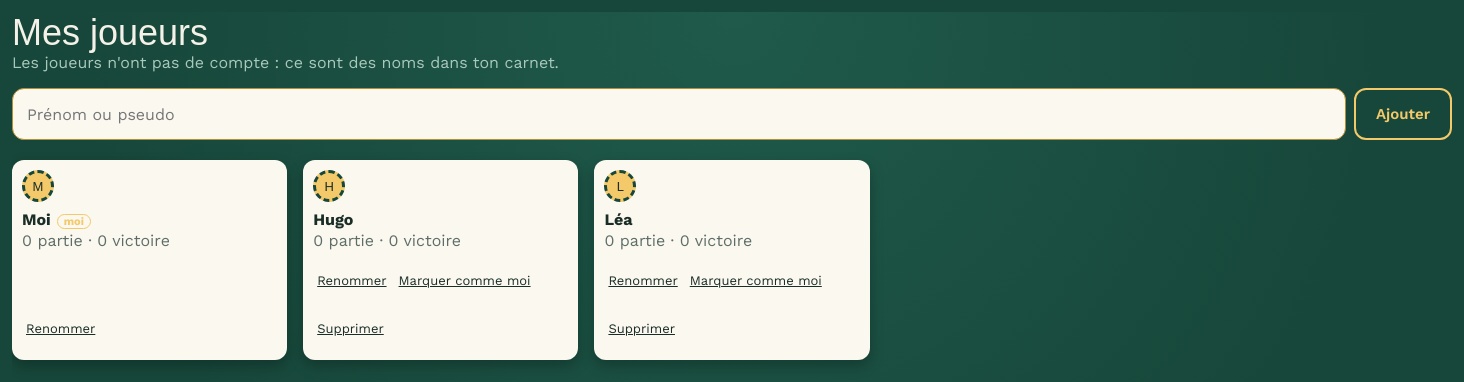
Test: Joueurs › renomme un joueur
The image size is (1464, 382).
Click the button "Renommer" below "Hugo". click: coordinates (352, 280)
box: [313, 258, 391, 302]
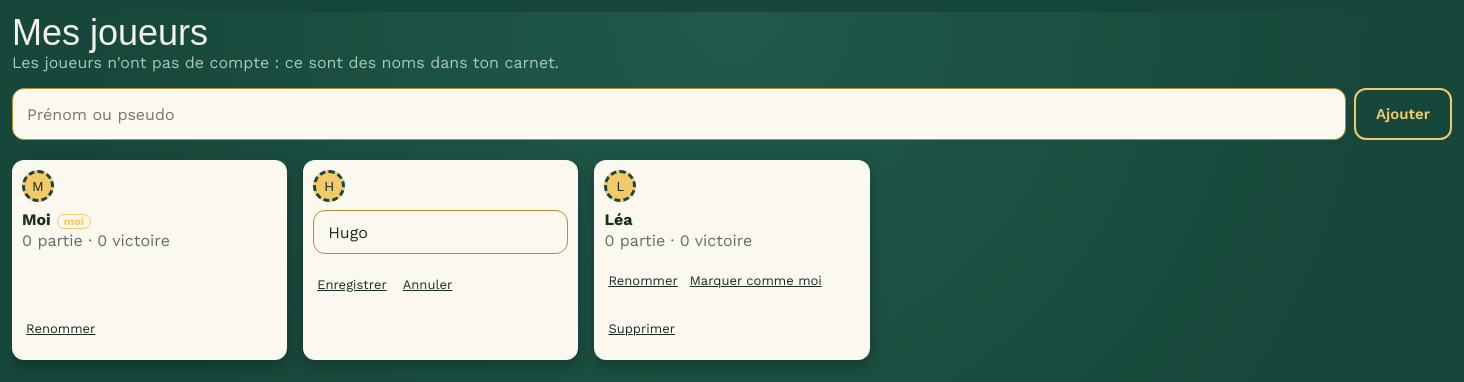
Replace the text in the field named "Nouveau nom du joueur" with "Hugo B.". click: coordinates (441, 232)
box: [313, 210, 568, 254]
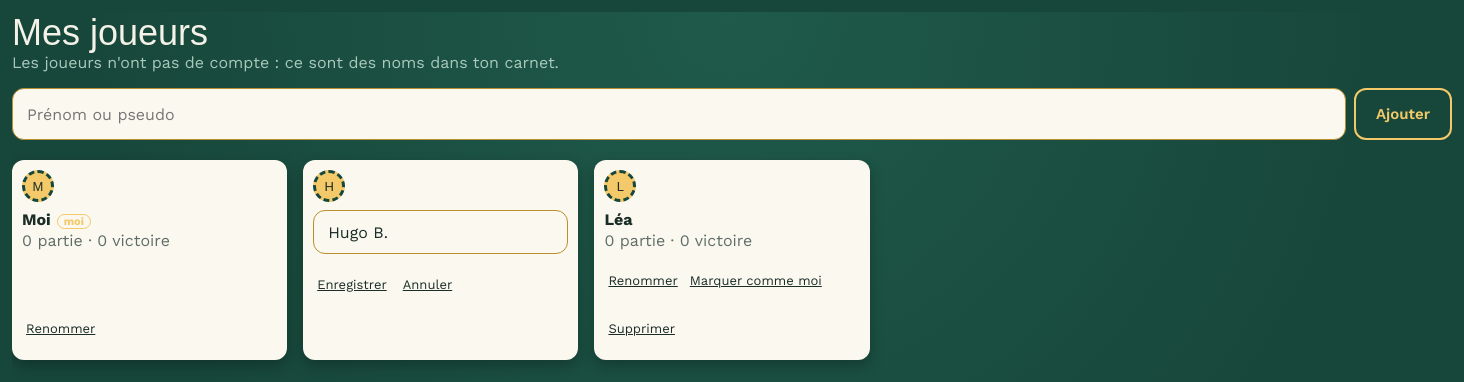
Submit the form with class "rename", box [313, 210, 568, 306]
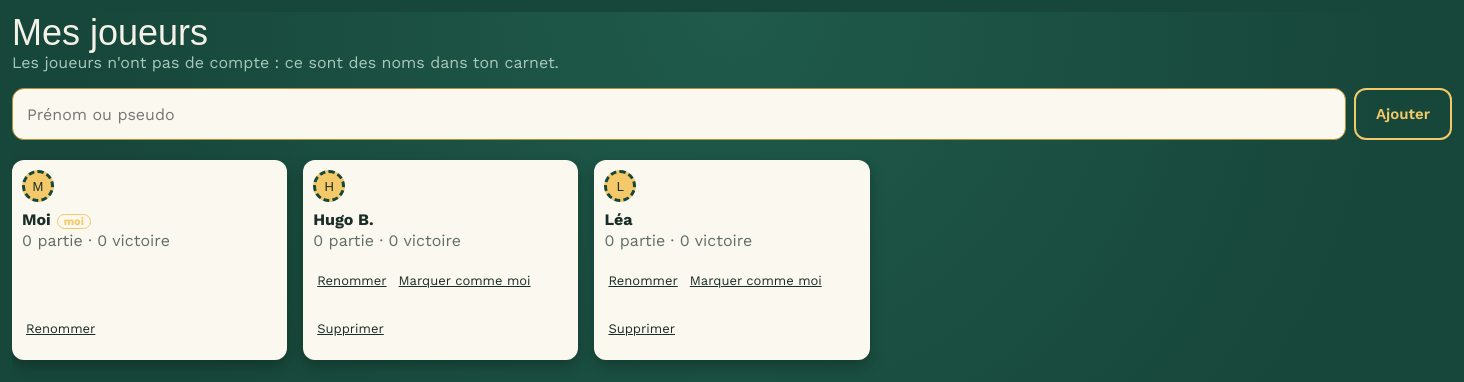
Result: the text "Hugo B." is shown at [313, 210, 374, 229]
